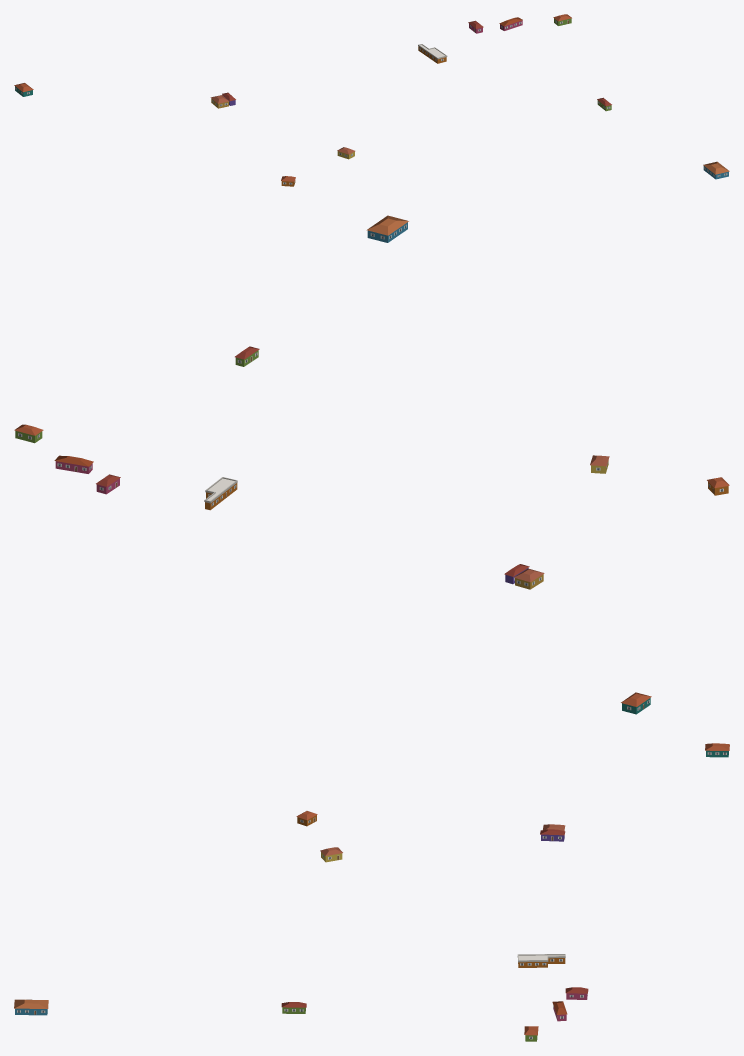
The model's file is msb_oranjestad_m11_m2.glb.
The picture shows the model from 3 angles, top to bottom: view 1: azimuth 30°, elevation 25°; view 2: azimuth 150°, elevation 25°; view 3: azimuth 270°, elevation 25°; orthographic projection. The views are drawn at different scales.
Parts seen in each view (by area): view 1: msb_oranjestad_m11_m2_lod0; view 2: msb_oranjestad_m11_m2_lod0; view 3: msb_oranjestad_m11_m2_lod0.
Boxes of the visible parts, left/top/right/bottom form: msb_oranjestad_m11_m2_lod0: left=14, top=14, right=729, bottom=186; msb_oranjestad_m11_m2_lod0: left=14, top=215, right=729, bottom=714; msb_oranjestad_m11_m2_lod0: left=14, top=743, right=729, bottom=1041.
Size of what is drawn, in the model's own units: 339 by 12.08 by 339.
3 materials, 1 textured.
